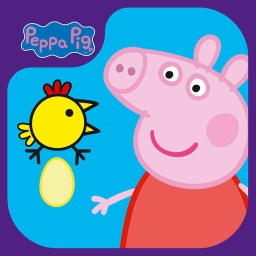Peppa: (91, 34, 248, 249)
